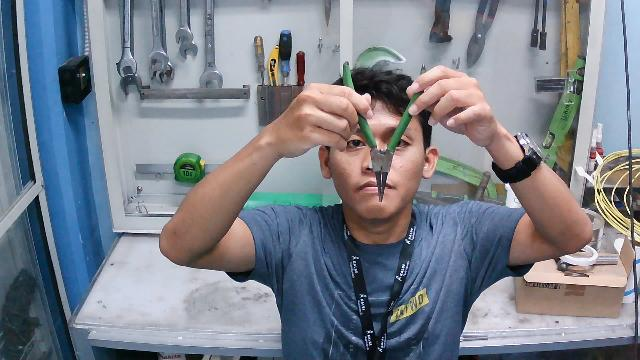tang_cucut_lancip_2: (334, 55, 435, 208)
